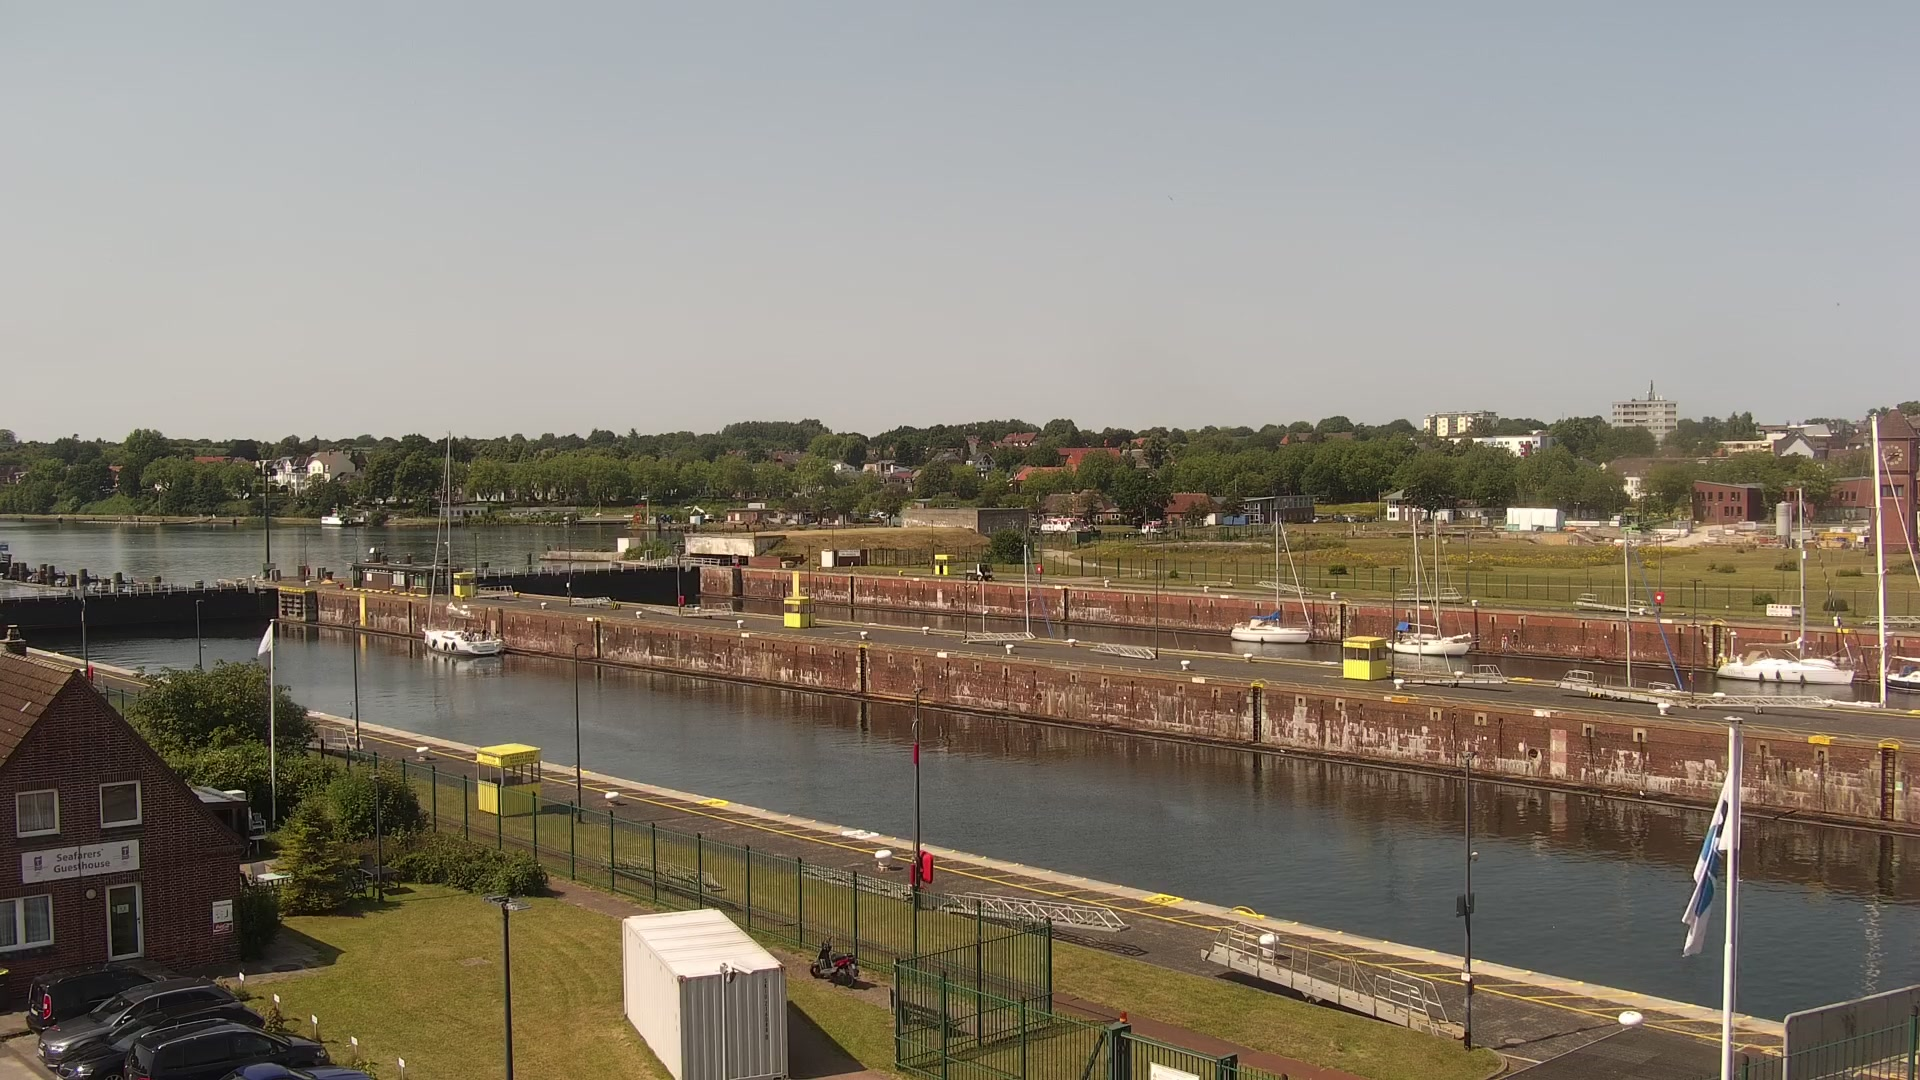human: (1832, 611, 1842, 627)
land: (35, 975, 242, 1066), (52, 998, 267, 1078), (121, 1016, 330, 1079), (24, 961, 183, 1033), (808, 932, 862, 988), (209, 1061, 370, 1079), (964, 560, 992, 580)
sea: (1806, 410, 1919, 713), (1714, 486, 1856, 685), (1558, 528, 1685, 693), (421, 430, 501, 656), (1383, 510, 1479, 657), (1228, 508, 1315, 645), (1039, 515, 1103, 540)
